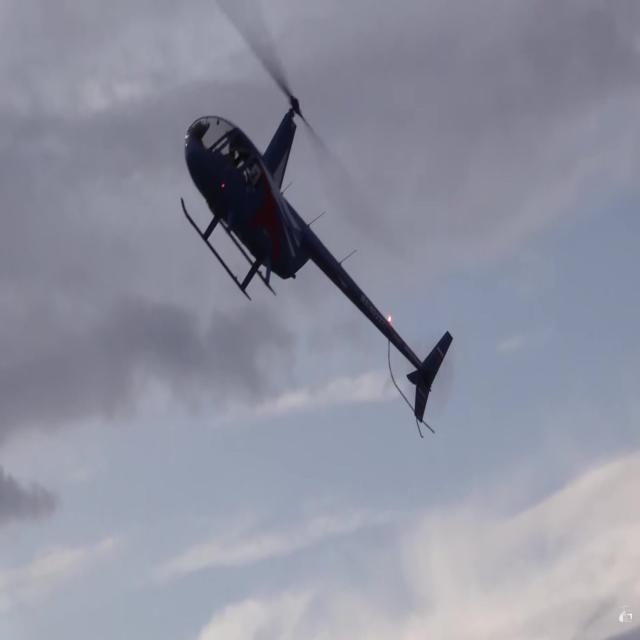CIV_HELO: (176, 94, 454, 427)
